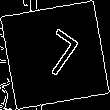L_SW: (27, 25, 83, 85)
